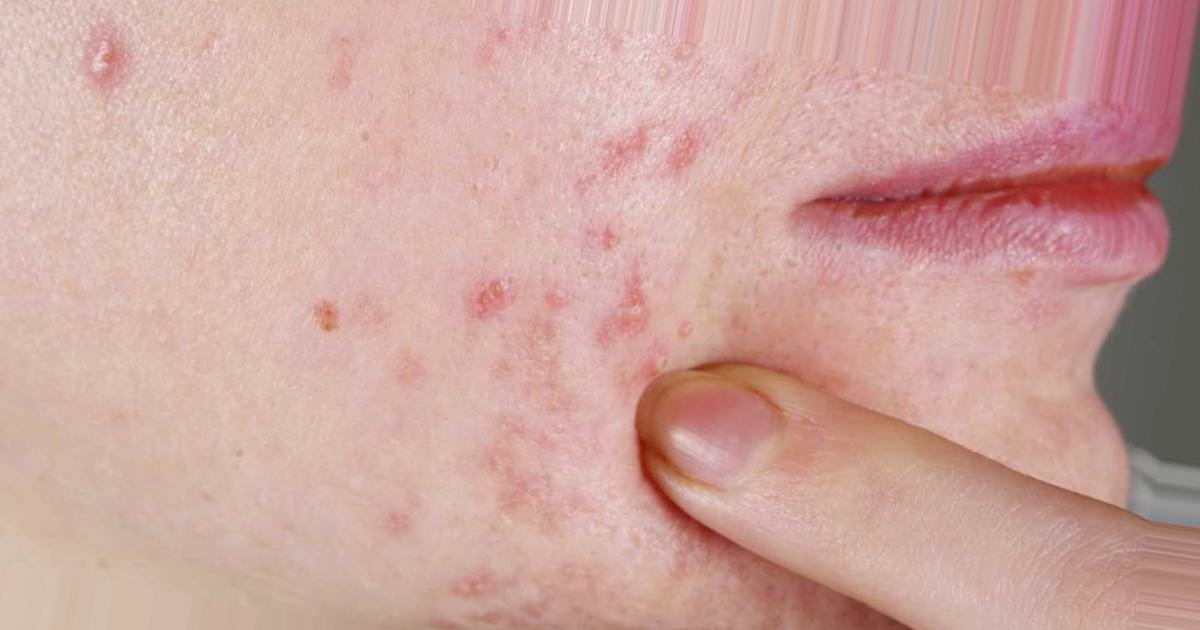Acne: (51, 17, 887, 502)
